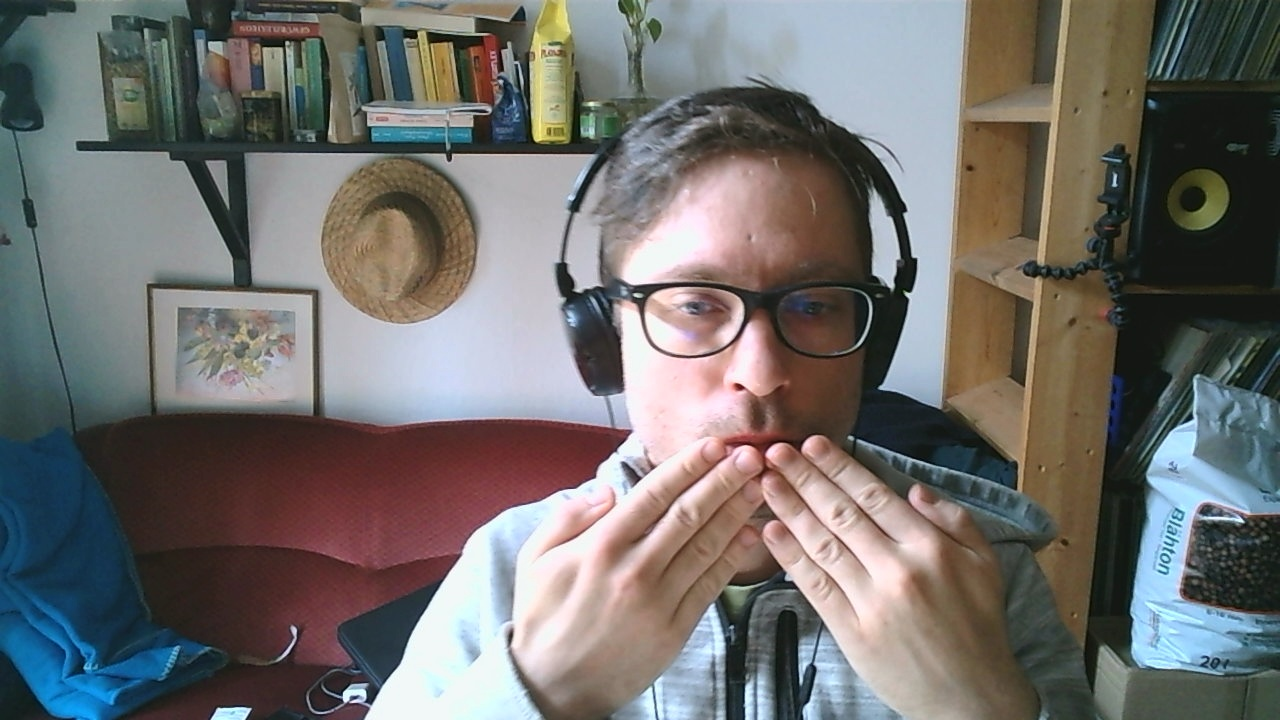thanks: (509, 434, 1009, 699)
